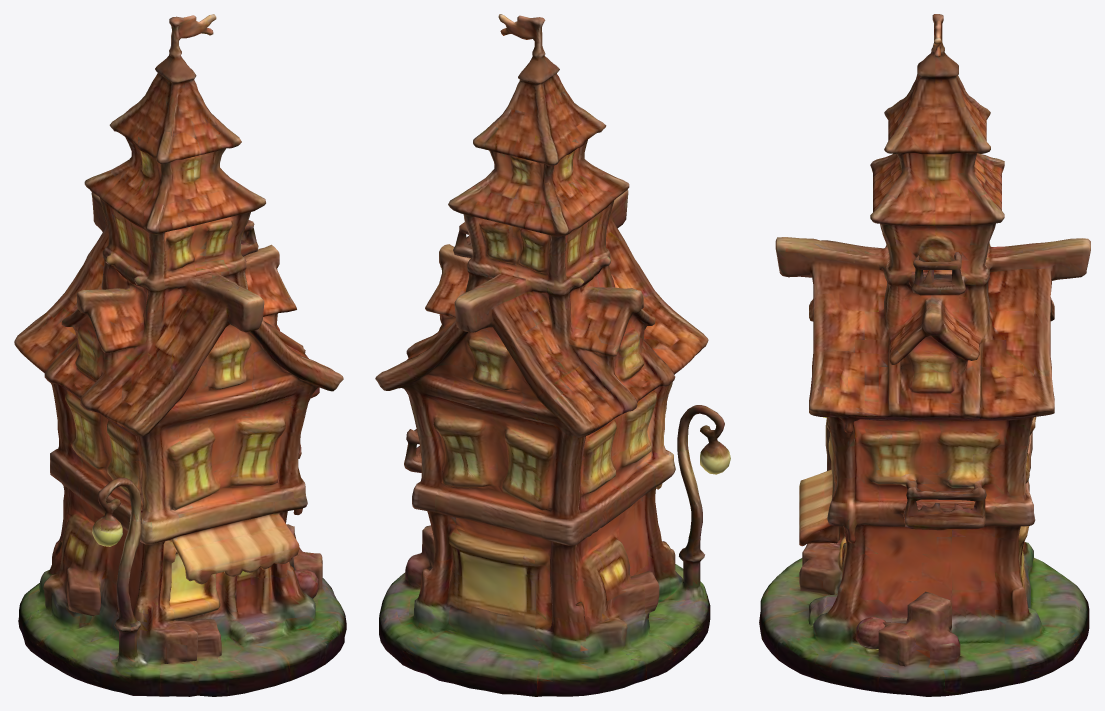
File: tower.glb
3 views of the same model, side by side, from view 1: azimuth 30°, elevation 25°; view 2: azimuth 150°, elevation 25°; view 3: azimuth 270°, elevation 25° (orthographic).
Visible parts, largest first — view 1: Meshy_Mesh_0; view 2: Meshy_Mesh_0; view 3: Meshy_Mesh_0.
Part boxes in pixels (<box>): Meshy_Mesh_0: <box>14,14,346,696</box>; Meshy_Mesh_0: <box>375,14,730,696</box>; Meshy_Mesh_0: <box>759,14,1090,696</box>.
Bounding box in the file's own units: 0.9198 × 1.91 × 0.9354.
1 material, 1 textured.
